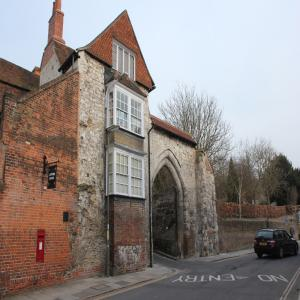Vehicle-registration-plate: (261, 243, 267, 246)
